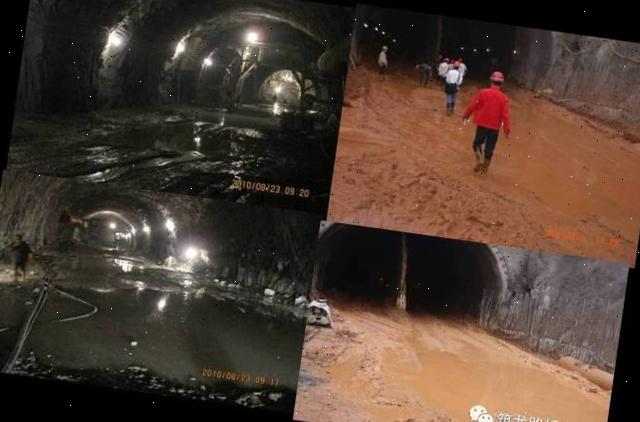helmet: (487, 69, 505, 82)
no_wear: (446, 66, 462, 86)
